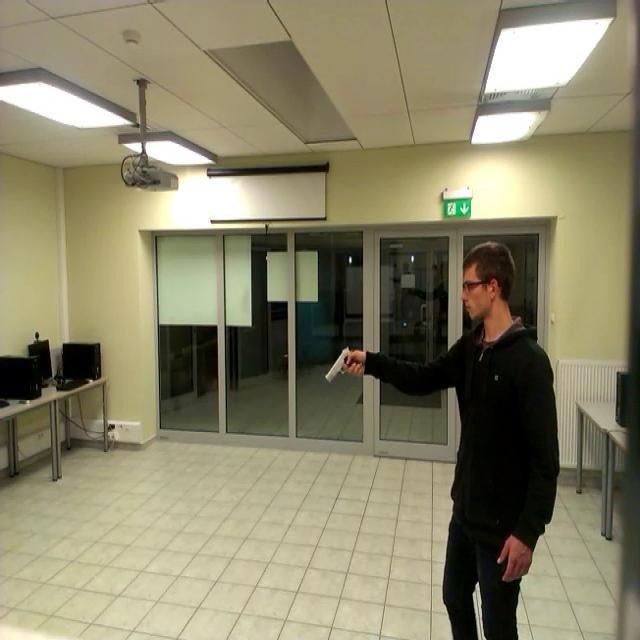weapon: (325, 347, 364, 382)
